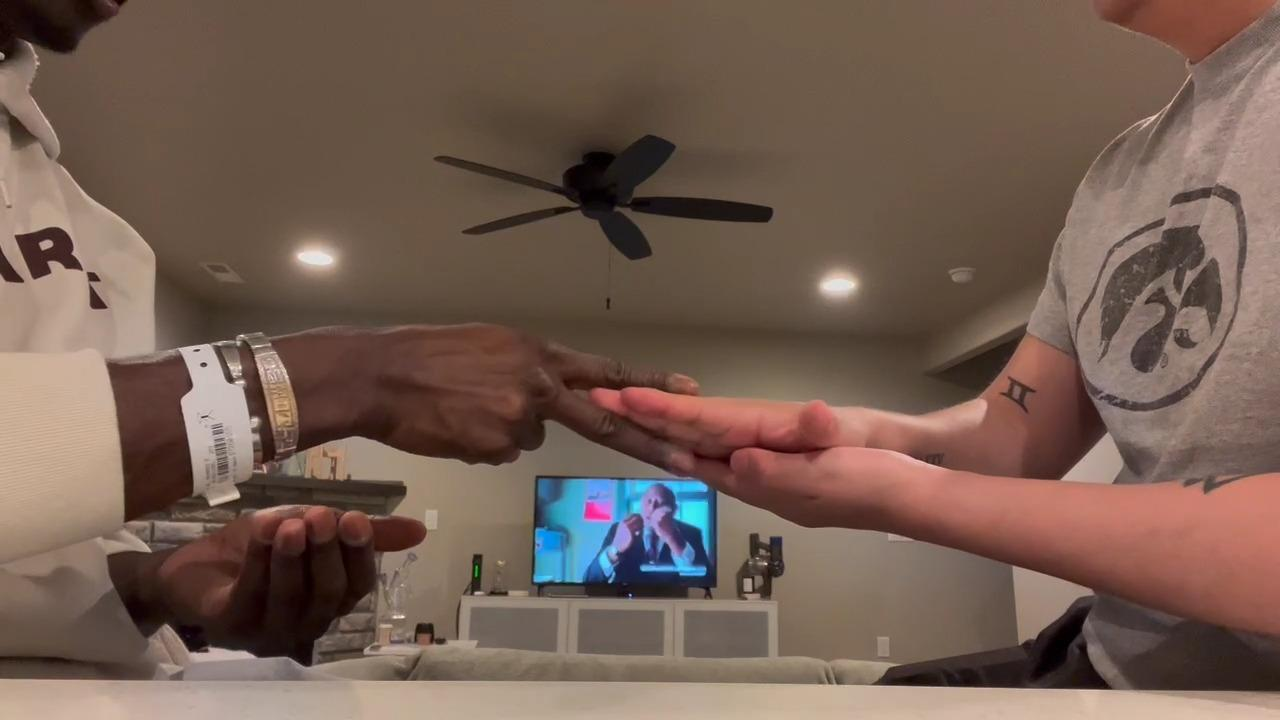Scissors: (338, 321, 702, 480), (593, 383, 875, 452)
